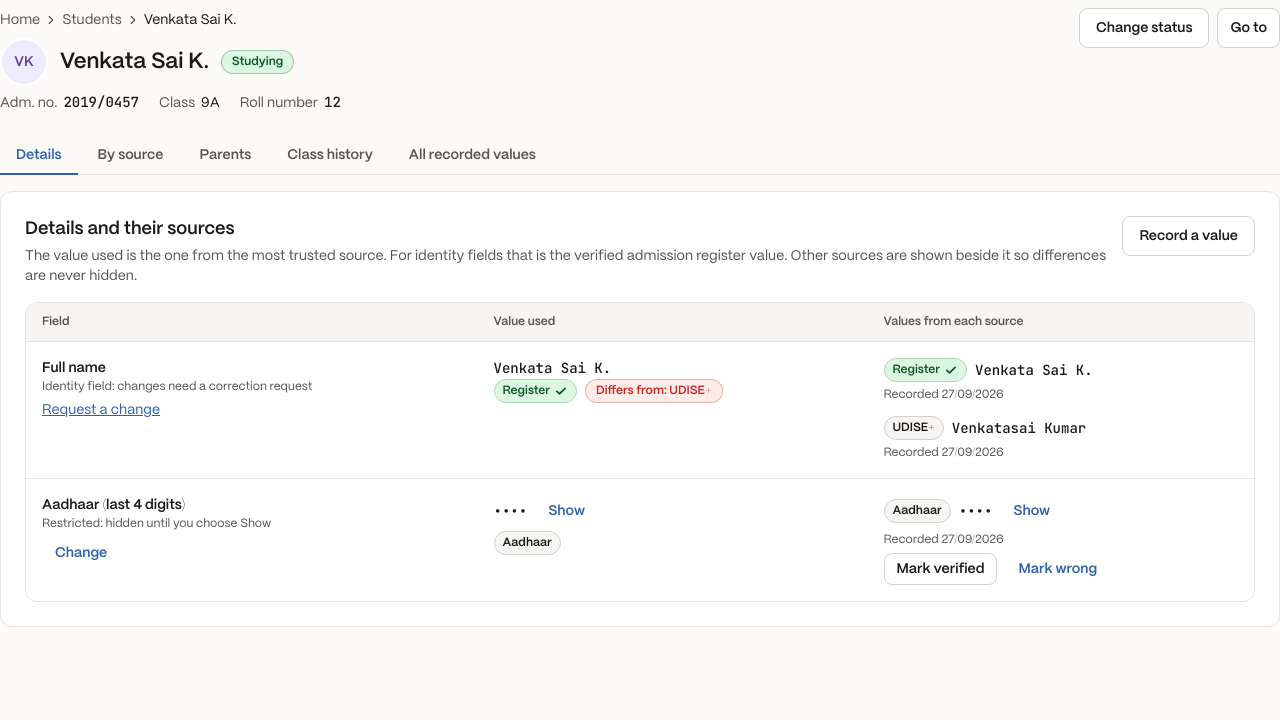
US-301: a student's values with their sources › points an identity change to a correction request (403 identity_change_required)
Click the button "Record a value" at (1189, 236), box [1122,216,1255,256]
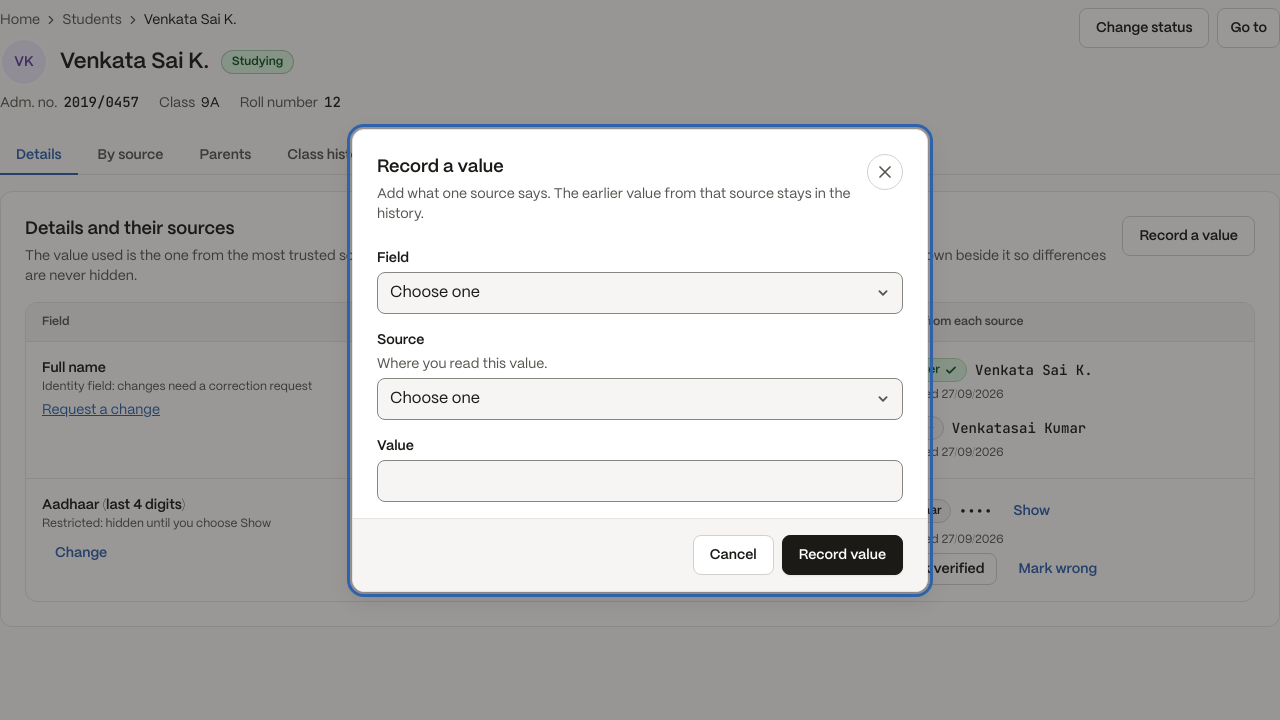
Select "Full name" in the dropdown labelled "Field" at (640, 292), box [377,272,903,314]
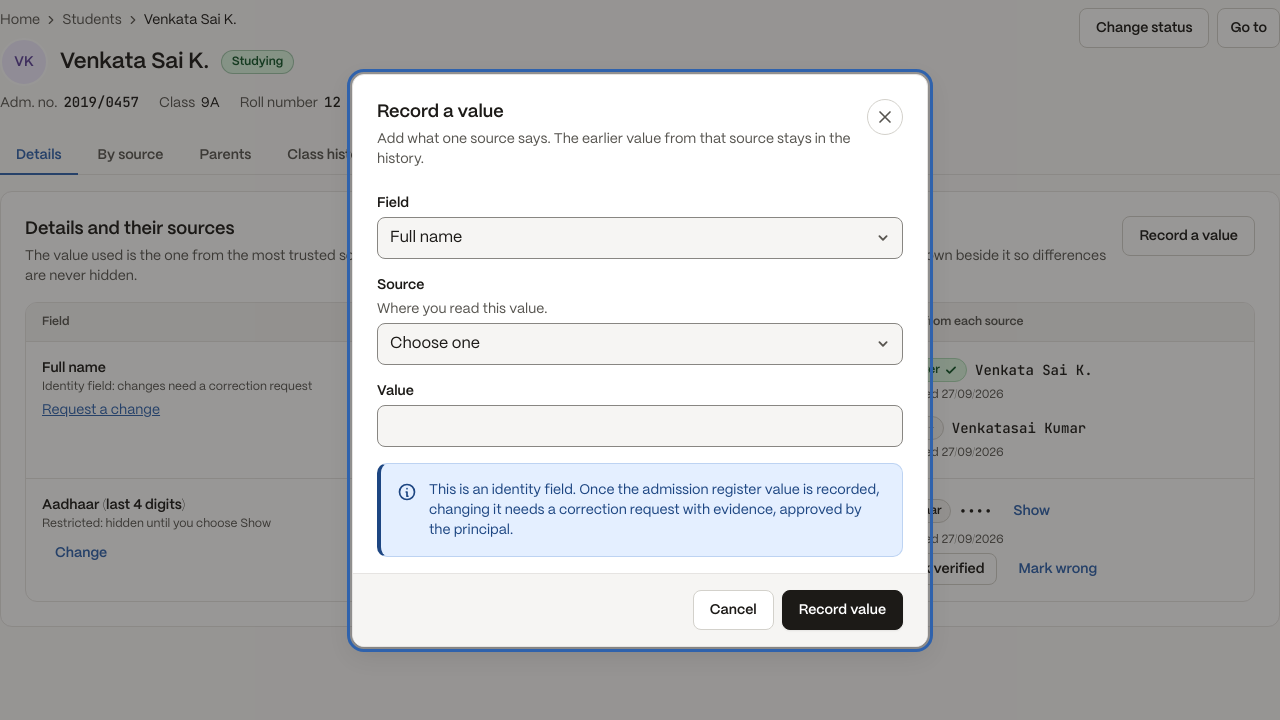
Select "Admission register" in the dropdown labelled "Source" at (640, 344), box [377,322,903,364]
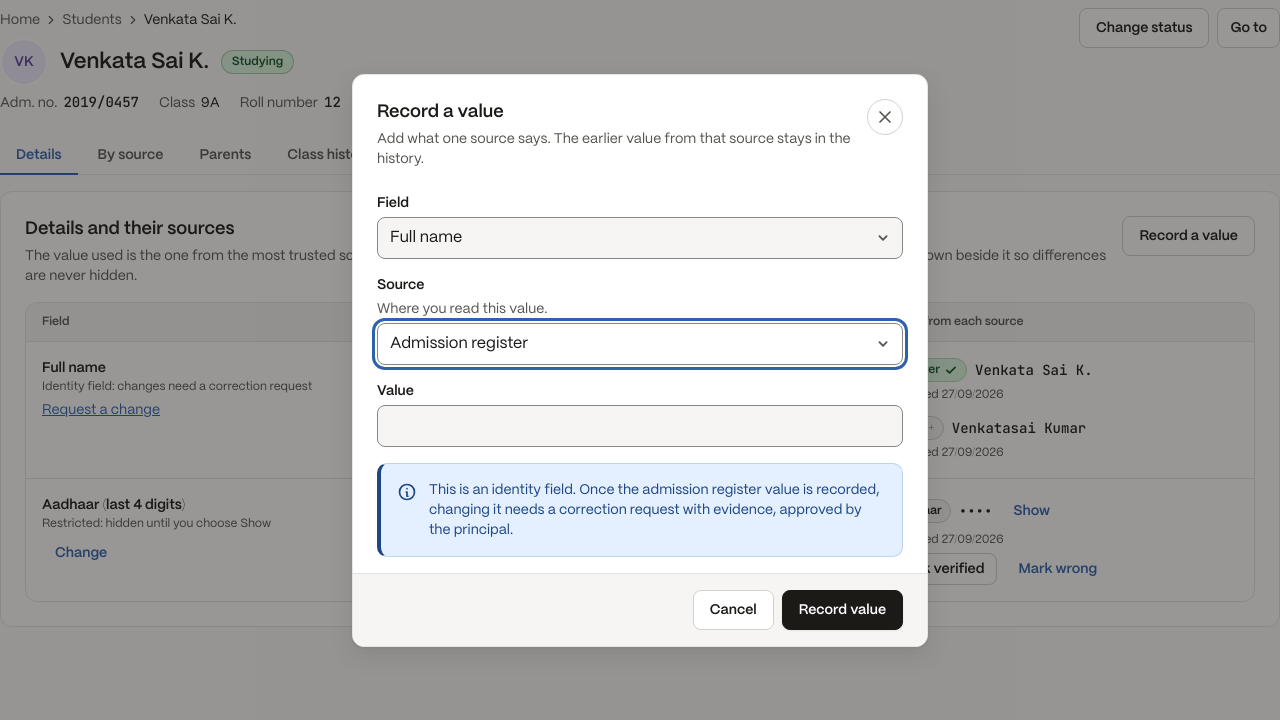
Type "Venkata Sai Kumar" into the field labelled "Value" at (640, 426), box [377,404,903,446]
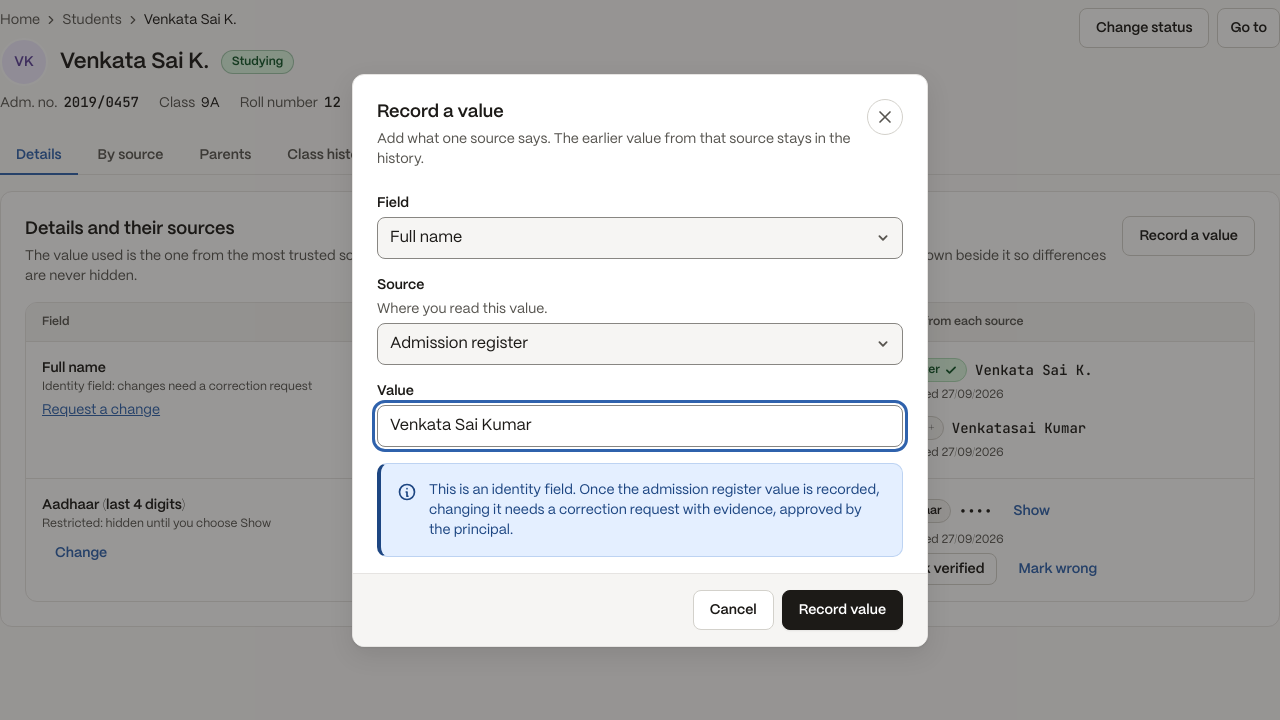
Click the button "Record value" at (842, 610), box [782,590,903,630]
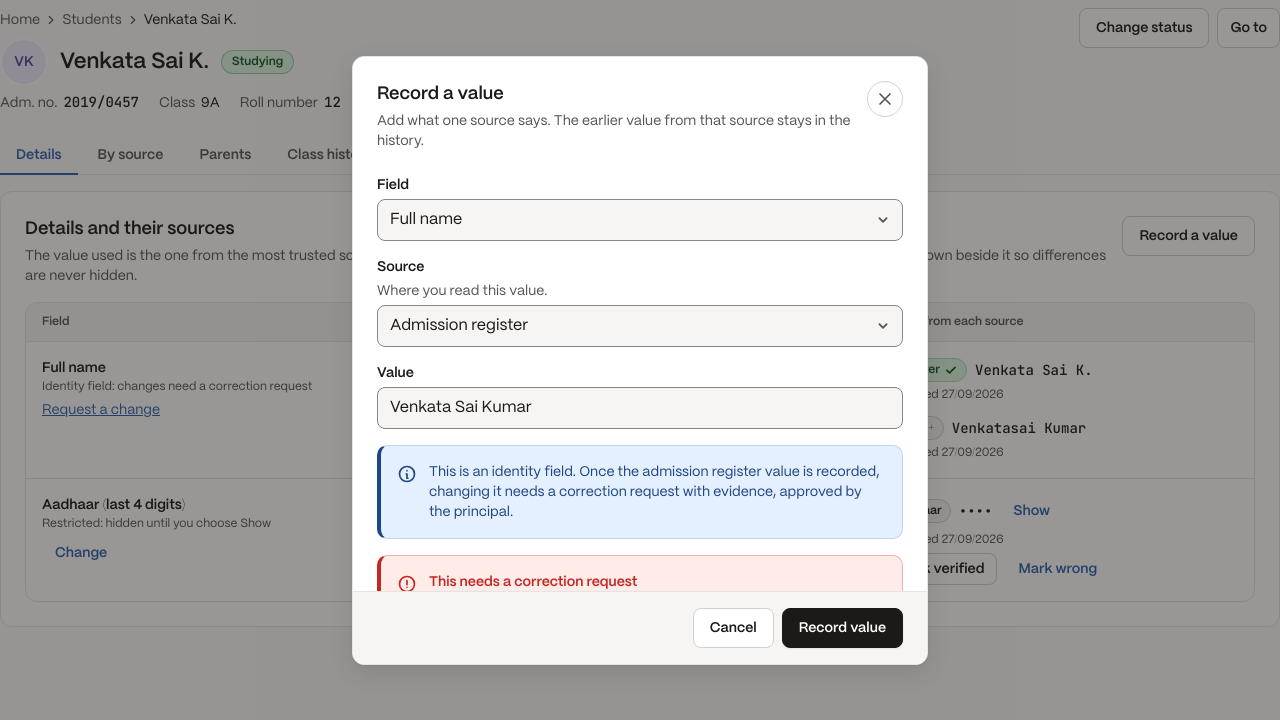
Now the text "This needs a correction request" is shown, box [429,574,637,588]
